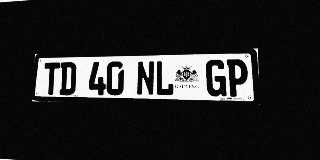0: (106, 61, 124, 95)
4: (88, 62, 106, 95)
D: (59, 62, 77, 95)
G: (206, 59, 226, 96)
L: (155, 60, 174, 96)
N: (136, 61, 155, 96)
P: (227, 59, 248, 97)
T: (43, 62, 60, 95)
